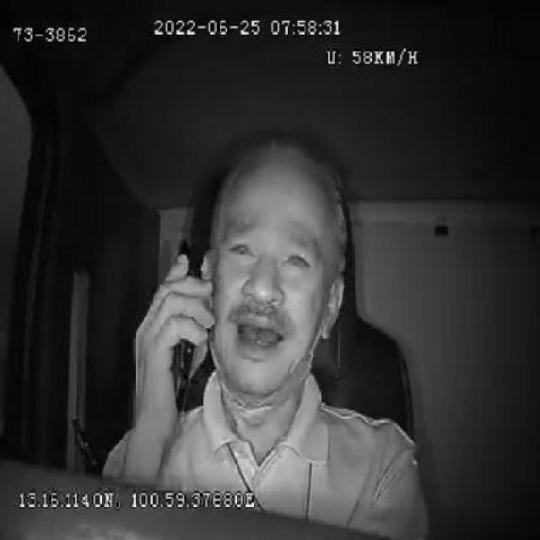phone: (168, 236, 202, 417)
